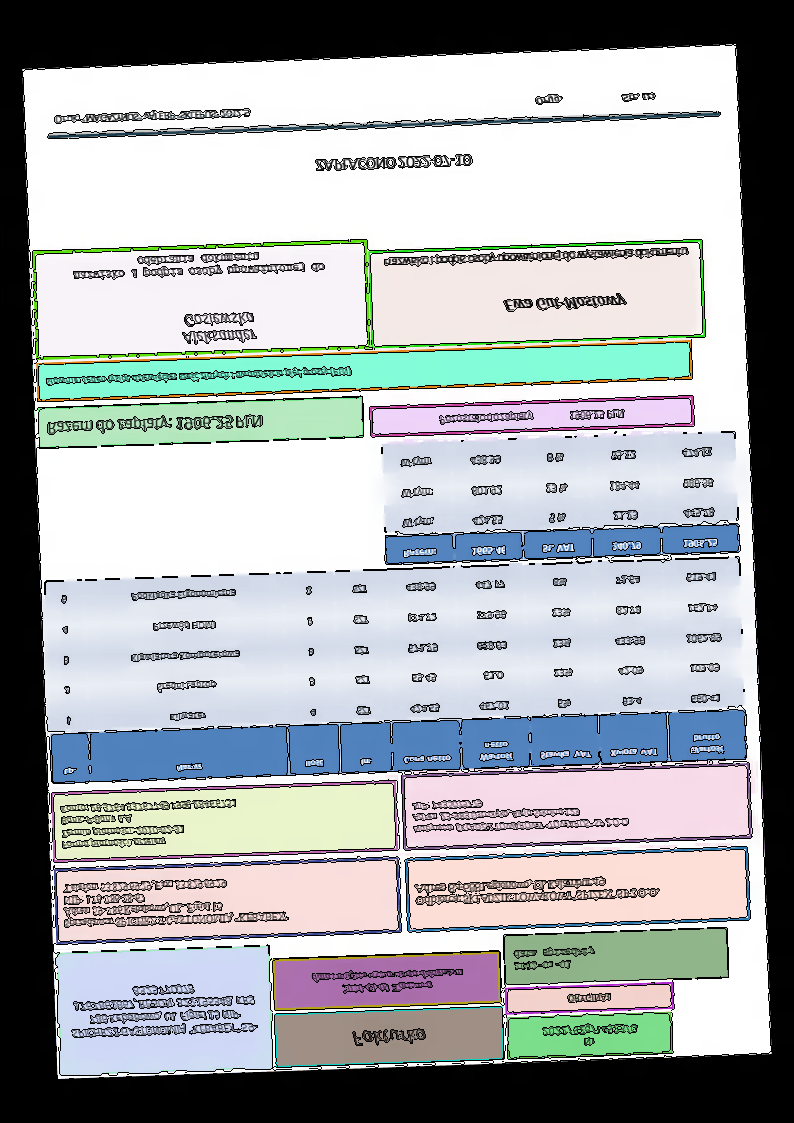Table: (43, 555, 748, 785), (380, 431, 740, 565)
TextBox: (61, 874, 292, 932), (65, 978, 260, 1042), (57, 797, 240, 852), (409, 792, 631, 836), (411, 873, 660, 909), (70, 248, 325, 283), (381, 244, 689, 270), (44, 365, 353, 389), (45, 411, 264, 438), (310, 966, 465, 996), (312, 150, 473, 175), (51, 106, 252, 126), (438, 407, 624, 427), (501, 290, 629, 315), (179, 309, 262, 347), (539, 1021, 640, 1050), (511, 944, 597, 973), (532, 90, 658, 108), (349, 1025, 427, 1048), (564, 992, 613, 1005)
